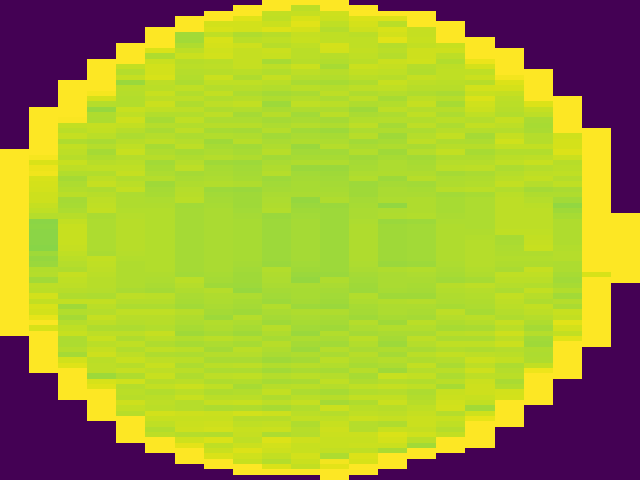sphere: (6, 3, 608, 480)
